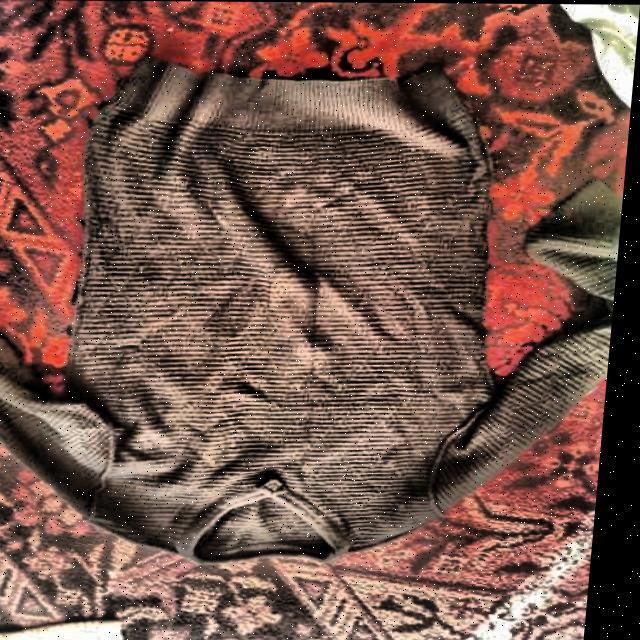clothes: (0, 59, 635, 566)
